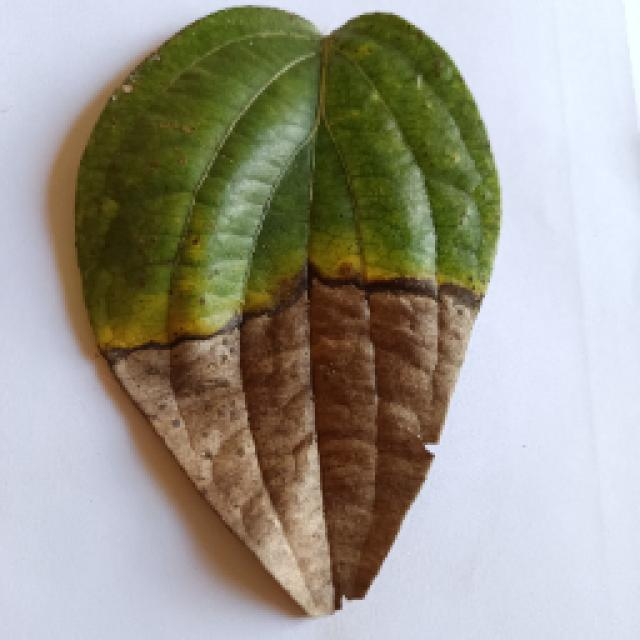footrot: (32, 25, 570, 630)
